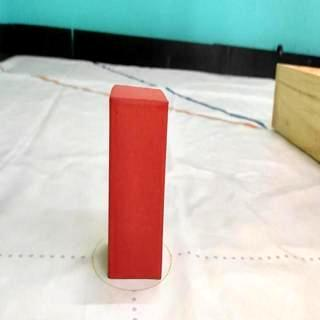redbox: (108, 85, 168, 283)
